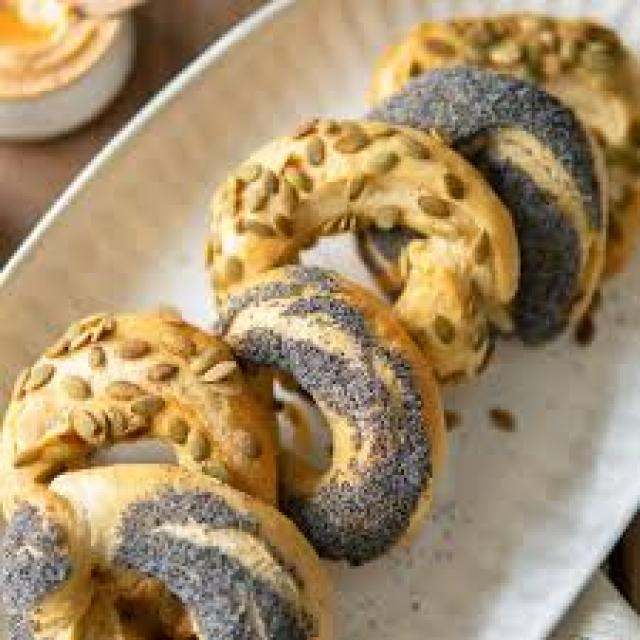Bagel: (206, 119, 520, 379), (225, 270, 441, 562), (374, 68, 602, 343), (4, 315, 276, 502), (50, 464, 319, 640)
